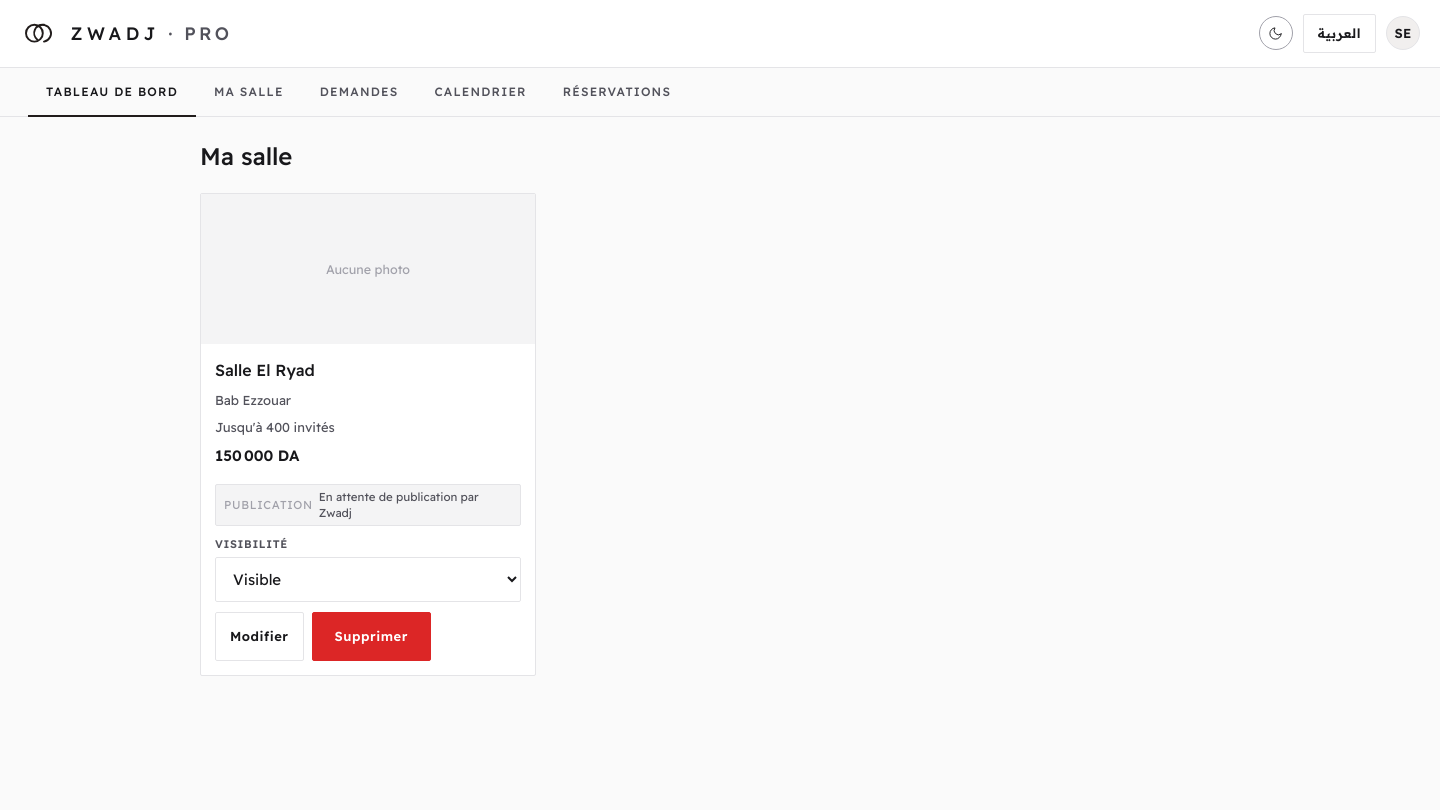
Test: Liste — statut D33 (3 entrées, sans confirmation) › échec du PATCH : REVERT de la valeur + message d'erreur
The width and height of the screenshot is (1440, 810).
Select "Temporairement indisponible" in the dropdown labelled "Visibilité": {"x": 368, "y": 580} top-left (215, 557), bottom-right (521, 602)
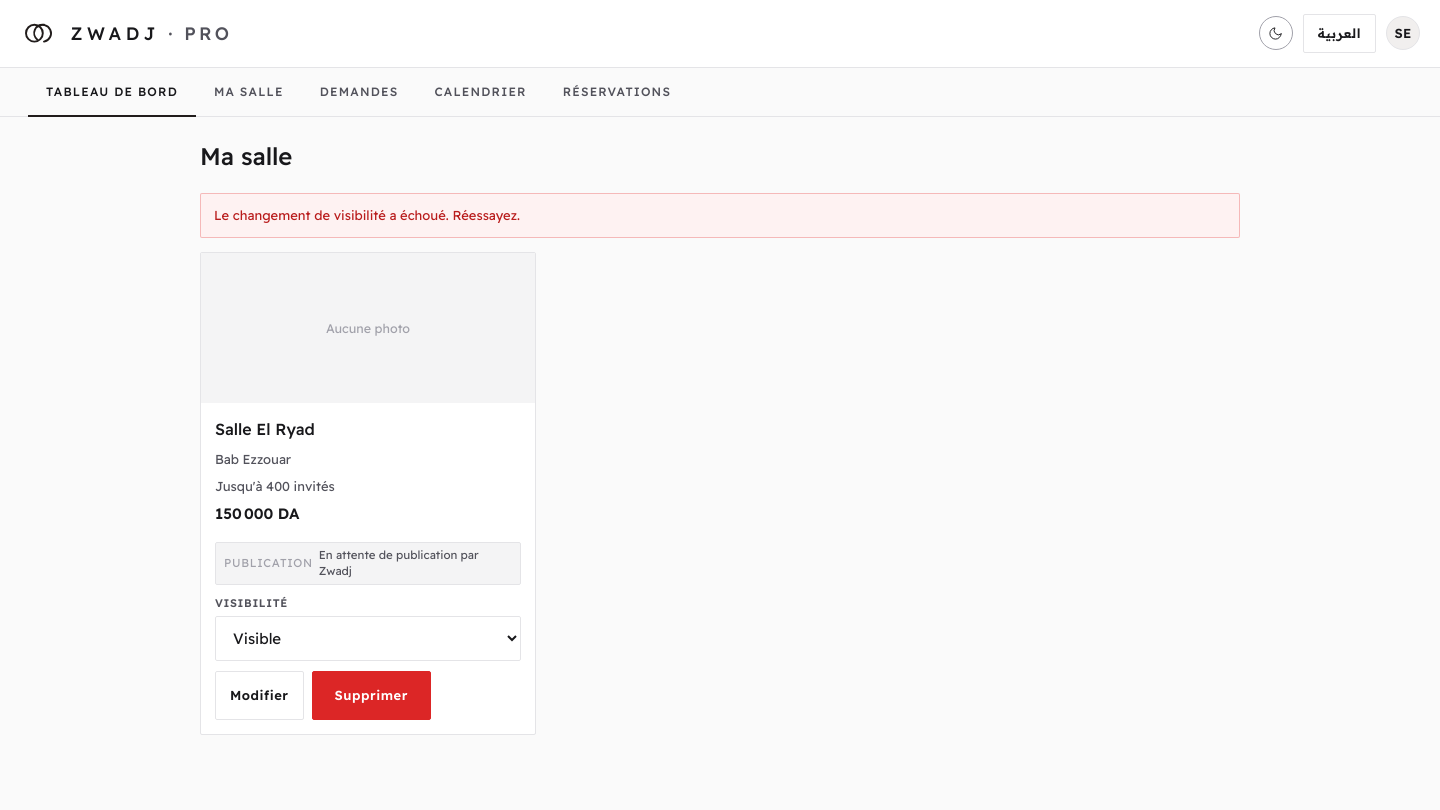
Now the text "Le changement de visibilité a échoué. Réessayez." is shown, box top-left (200, 193), bottom-right (1240, 238)
